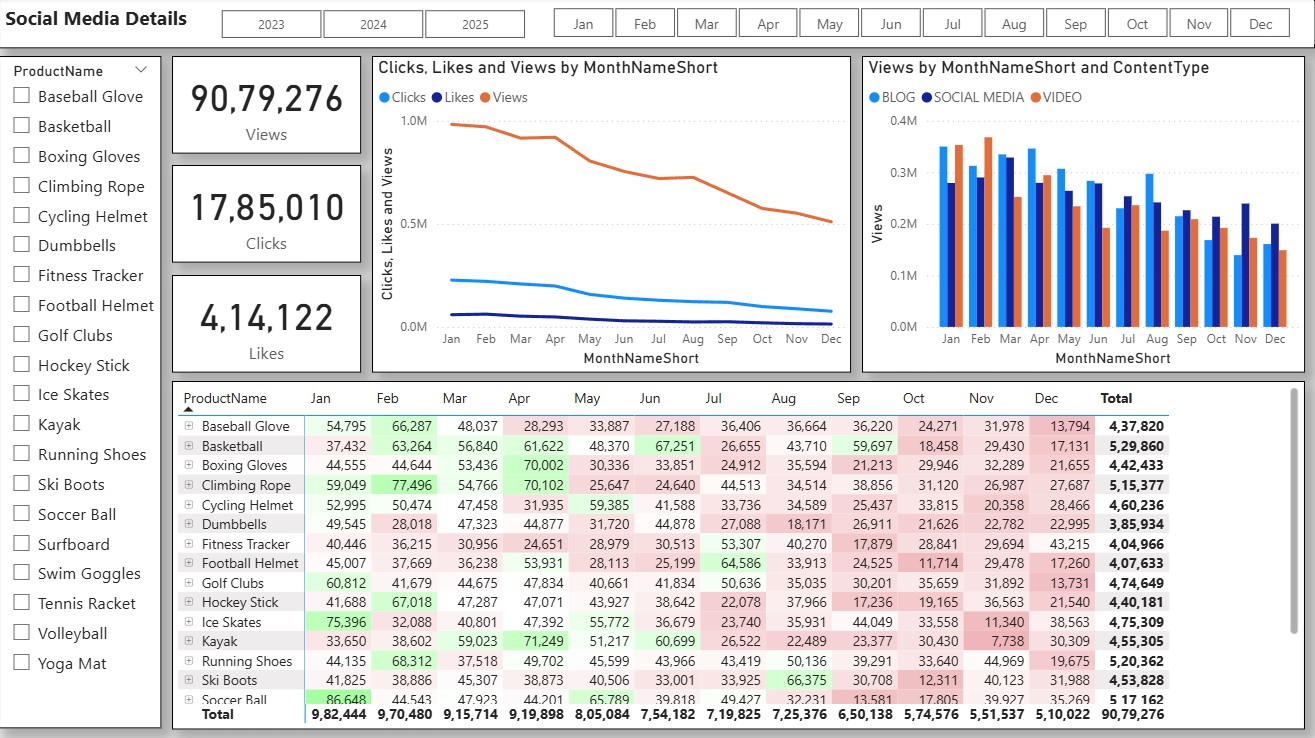

The page's visual inventory and layout, read from the dashboard file:
{"tool":"powerbi","page":{"name":"Social Media Details","canvas":[1280,720],"ordinal":2},"visuals":[{"type":"textbox","box":[0,0,1280,48.6],"z":0},{"type":"slicer","fields":{"Values":["dim_products.ProductName"]},"box":[0,56.5,158.3,654.4],"z":1000},{"type":"card","fields":{"Values":["Calculations.Views"]},"box":[168.3,56.5,183.8,95.2],"z":2000},{"type":"card","fields":{"Values":["Calculations.Clicks"]},"box":[168.3,162.8,183.8,95.2],"z":3000},{"type":"card","fields":{"Values":["Calculations.Likes"]},"box":[168.3,269.1,183.8,95.2],"z":4000},{"type":"slicer","fields":{"Values":["Calendar.Year"]},"box":[190.4,4.4,345.5,41],"z":5000},{"type":"slicer","fields":{"Values":["Calendar.MonthNameShort"]},"box":[513.8,3.3,766.2,42.1],"z":6000},{"type":"lineChart","fields":{"Category":["Calendar.MonthNameShort"],"Y":["Calculations.Clicks","Calculations.Likes","Calculations.Views"]},"box":[363.2,56.5,466.2,307.8],"z":7000},{"type":"clusteredColumnChart","fields":{"Category":["Calendar.MonthNameShort"],"Y":["Calculations.Views"],"Series":["fact_engagement_data.ContentType"]},"box":[839.3,56.5,430.7,307.8],"z":8000},{"type":"pivotTable","fields":{"Rows":["dim_products.ProductName","fact_engagement_data.ContentType"],"Columns":["Calendar.MonthNameShort"],"Values":["Calculations.Views"]},"box":[168.3,372,1101.7,338.8],"z":9000}]}

Visuals, with their boxes in screenshot pixels (x1, y1, x2, y2), scaled from the page's 1280x720 canvas onto the 1315x738 screenshot:
textbox: locate(0, 0, 1314, 50)
slicer - dim_products.ProductName: locate(0, 58, 163, 729)
card - Calculations.Views: locate(173, 58, 362, 155)
card - Calculations.Clicks: locate(173, 167, 362, 264)
card - Calculations.Likes: locate(173, 276, 362, 373)
slicer - Calendar.Year: locate(196, 5, 551, 47)
slicer - Calendar.MonthNameShort: locate(528, 3, 1314, 47)
lineChart - Calendar.MonthNameShort x Calculations.Clicks: locate(373, 58, 852, 373)
clusteredColumnChart - Calendar.MonthNameShort x Calculations.Views: locate(862, 58, 1305, 373)
pivotTable - dim_products.ProductName x fact_engagement_data.ContentType: locate(173, 381, 1305, 729)
